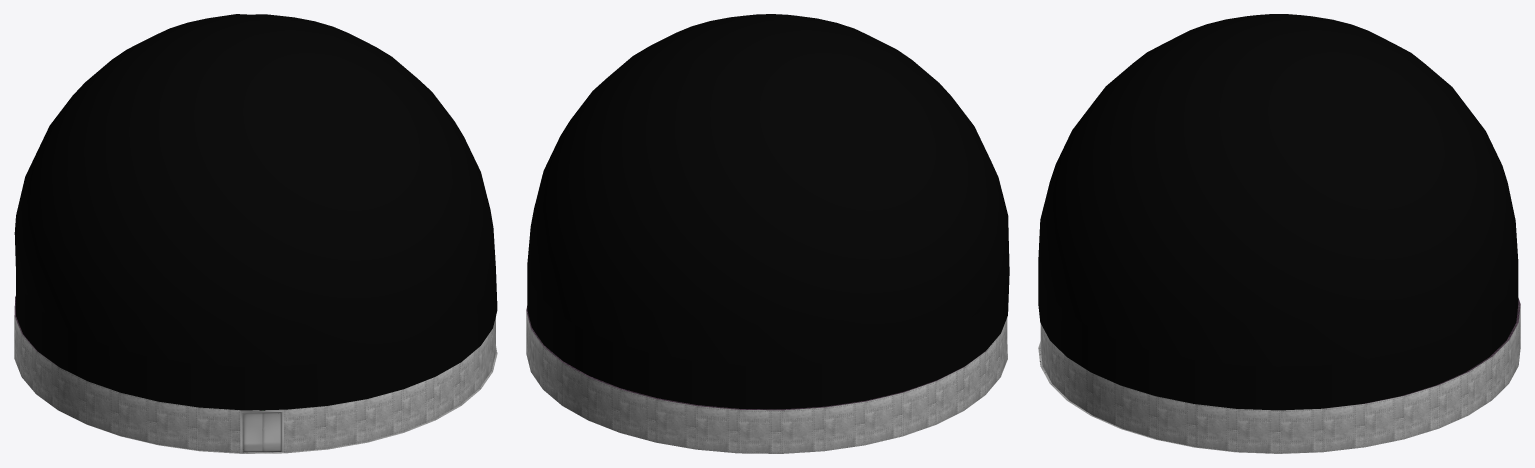
Rendered from SwisherScBuenoBueno.fbx.
3 views of the same model, side by side, from view 1: azimuth 30°, elevation 25°; view 2: azimuth 150°, elevation 25°; view 3: azimuth 270°, elevation 25° (orthographic).
Parts seen in each view (by area): view 1: Cupula; view 2: Cupula; view 3: Cupula.
Boxes of the visible parts, x1,y1,x2,y2 form: Cupula: (14, 14, 497, 453); Cupula: (526, 14, 1009, 453); Cupula: (1038, 14, 1520, 453).
Size of the model in its own units: 100 by 72.49 by 100.
Materials: 13 (6 with a texture image).
